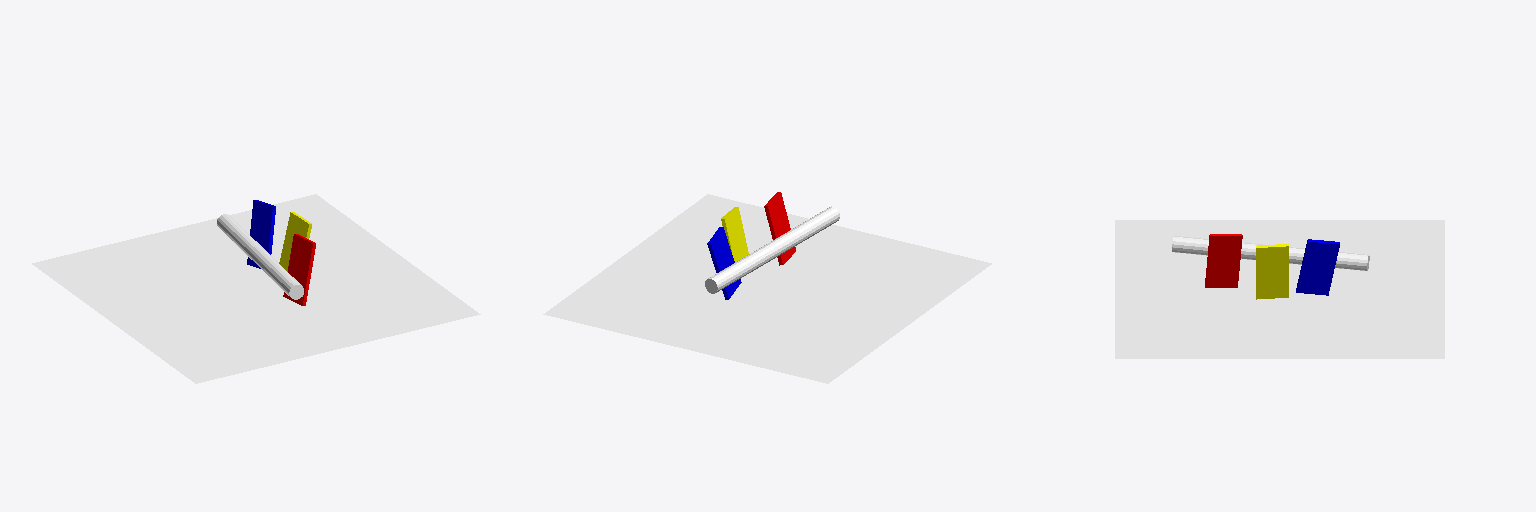
File: eee-case.obj
3 renders of one model, left to right at view 1: azimuth 30°, elevation 25°; view 2: azimuth 150°, elevation 25°; view 3: azimuth 270°, elevation 25°, orthographic.
Visible parts, largest first — view 1: color-bleeding.obj; view 2: color-bleeding.obj; view 3: color-bleeding.obj.
Part boxes in pixels (left/top/right/bottom): color-bleeding.obj: left=32, top=194, right=480, bottom=383; color-bleeding.obj: left=543, top=192, right=991, bottom=383; color-bleeding.obj: left=1115, top=220, right=1444, bottom=358.
Size of the model in its own units: 10 by 2.22 by 10.